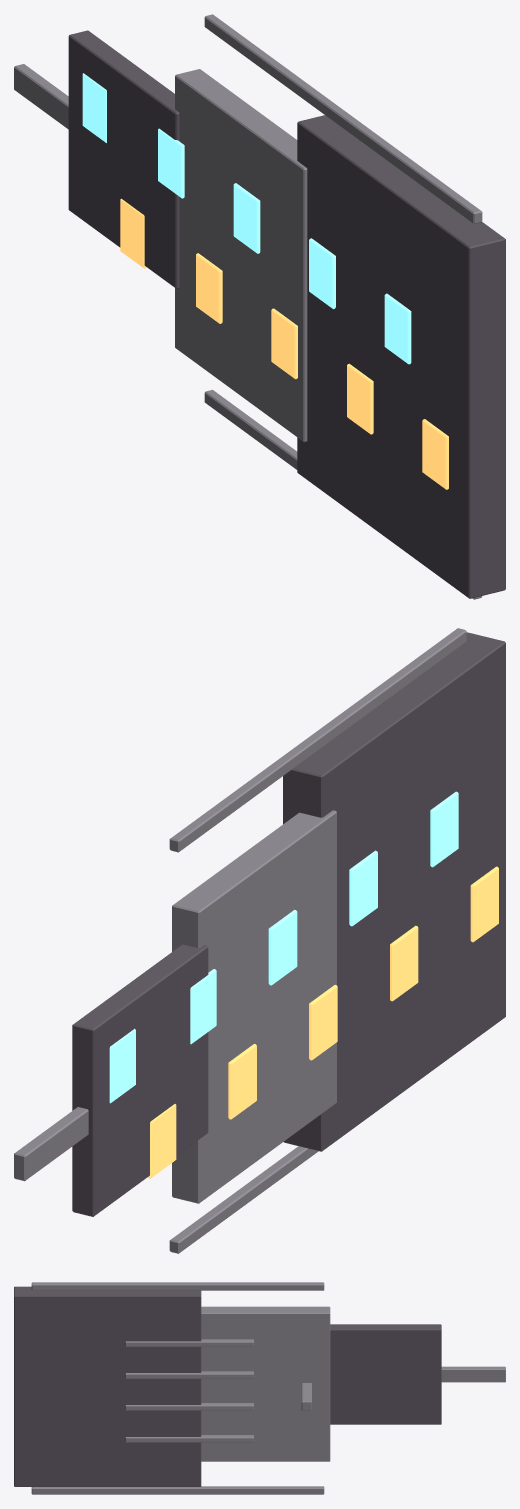
File: facade_tower_r.glb
3 views of the same model, one above another, from view 1: azimuth 30°, elevation 25°; view 2: azimuth 150°, elevation 25°; view 3: azimuth 270°, elevation 25° (orthographic). The views are drawn at different scales.
Visible parts, largest first — view 1: FacadeTower_R; view 2: FacadeTower_R; view 3: FacadeTower_R.
Boxes of the visible parts, x1,y1,x2,y2 form: FacadeTower_R: (14, 14, 505, 599); FacadeTower_R: (14, 628, 505, 1253); FacadeTower_R: (14, 1282, 505, 1494).
Bounding box in the file's own units: 1.09 × 3.96 × 8.4.
